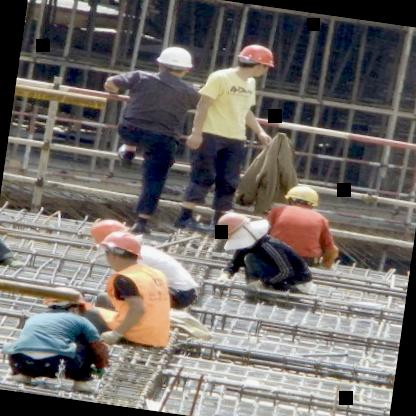helmet: (98, 228, 145, 271), (42, 282, 96, 318), (154, 41, 198, 82), (86, 215, 131, 252), (236, 41, 276, 80), (212, 209, 252, 240), (284, 180, 322, 210)
